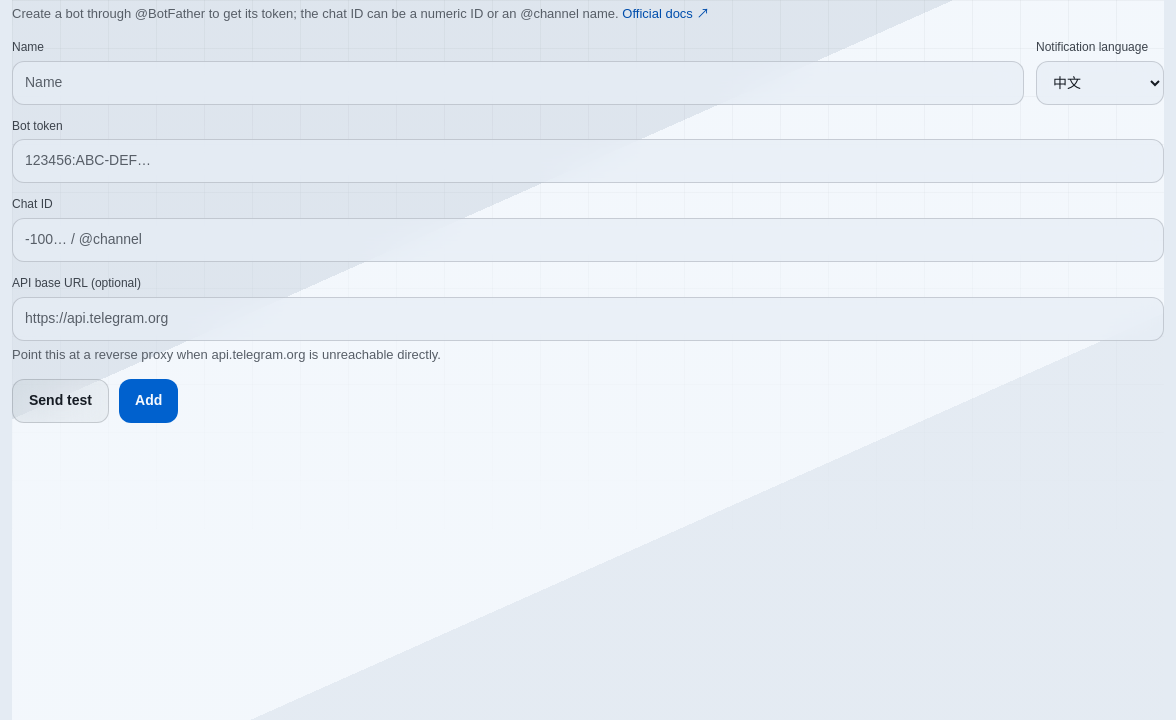
Test case: PushChannelForm › surfaces a rejected save in the form
Type "123456:ABC" into the password field labelled "Bot token".
click(588, 161); type("123456:ABC")  # box 12,139 -> 1164,183
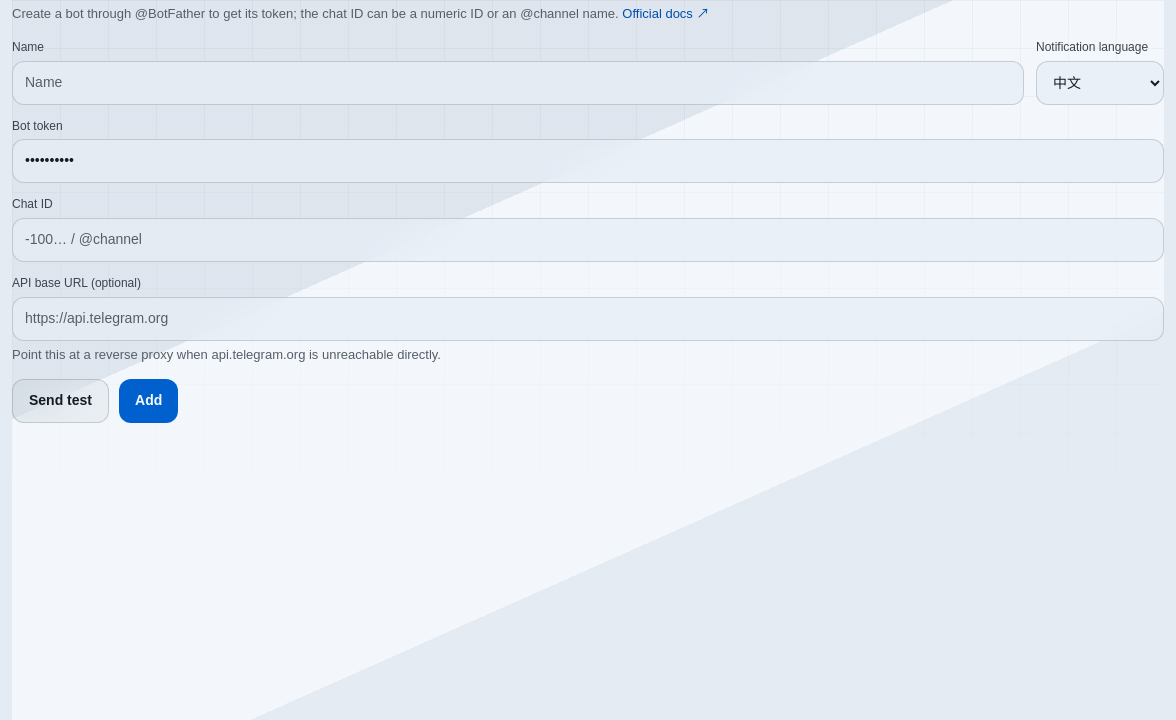
Type "-1" into the field labelled "Chat ID".
click(588, 240); type("-1")  # box 12,218 -> 1164,262
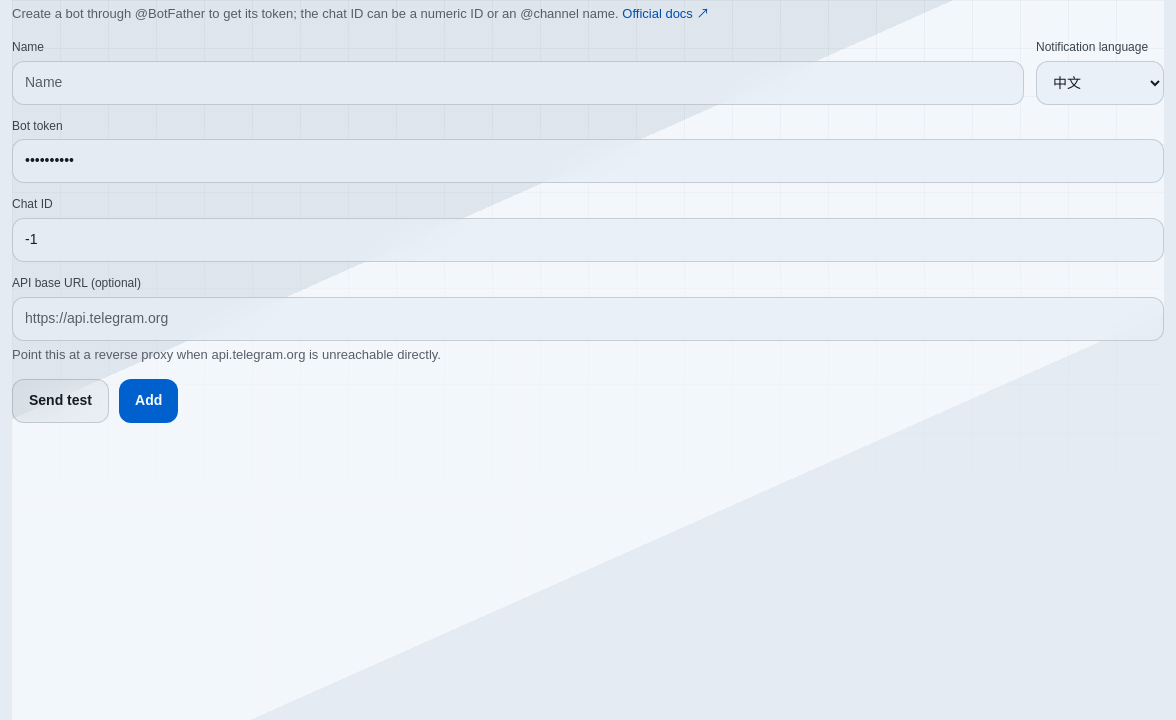
Click the button "Add".
click(149, 401)  # box 119,379 -> 178,423
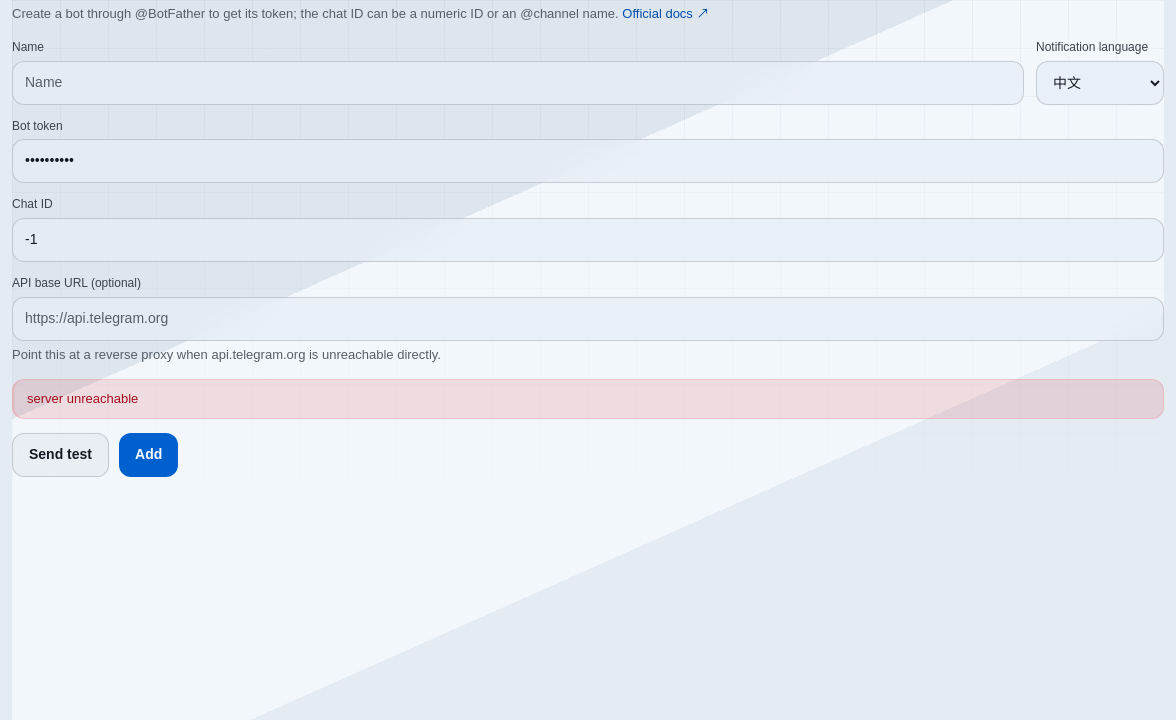
Result: the text with class "inline" reads "server unreachable" at 27,391 -> 138,406
